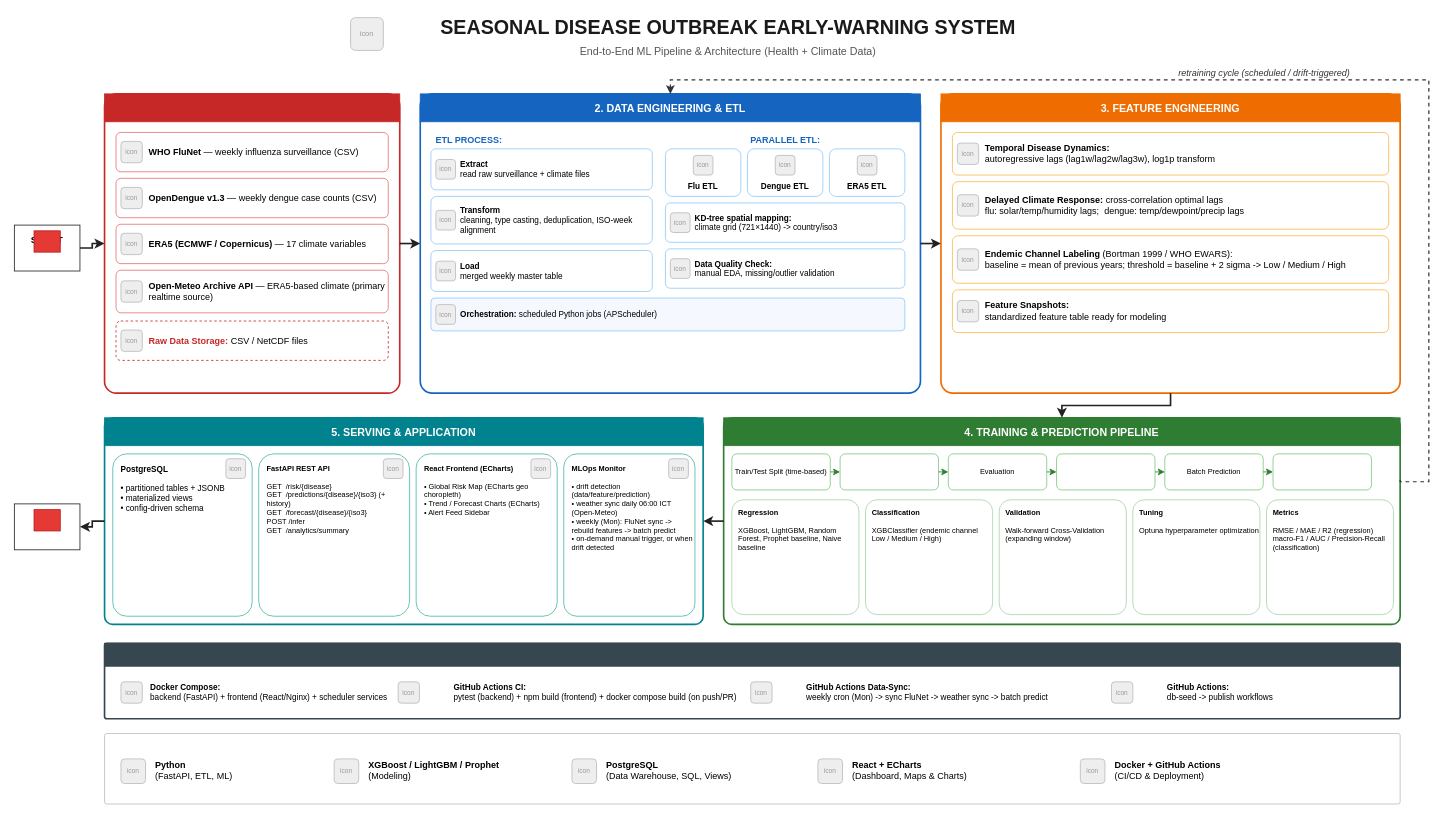
Image size: 1451x818. Some labels were removed from this diagram. Here are the shapes that lost their labels. From the top down, the centre of each, then its label:
the point at 252,107: 1. DATA COLLECTION
the point at 888,471: Model Training
the point at 1105,471: Model Storage (save best .pkl)
the point at 1321,471: Risk Scoring
the point at 752,654: 6. CI/CD & DEPLOYMENT
